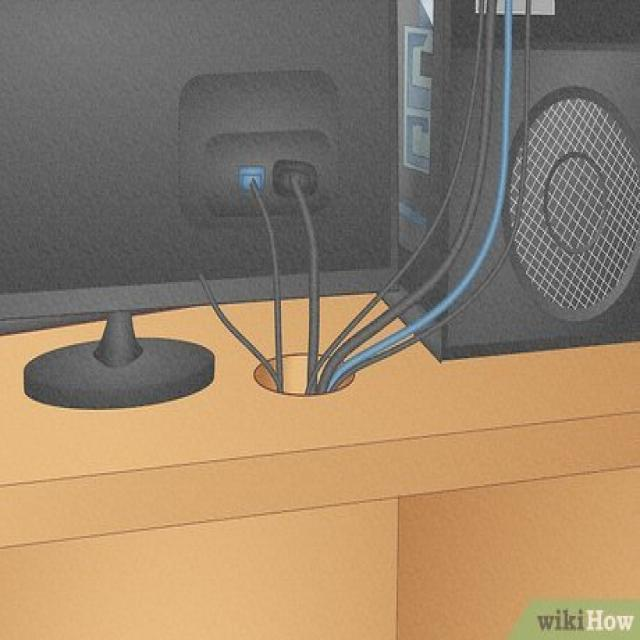electronics: (0, 0, 397, 403), (0, 2, 394, 338), (0, 2, 392, 314), (319, 0, 512, 390), (320, 0, 512, 390), (429, 0, 639, 354), (433, 0, 636, 354), (178, 69, 337, 390), (504, 85, 639, 321), (178, 69, 337, 223), (25, 312, 213, 404), (199, 223, 284, 390), (199, 130, 337, 223), (409, 0, 476, 187), (398, 0, 448, 249), (398, 0, 447, 249), (199, 269, 280, 390), (423, 184, 494, 301), (405, 166, 472, 286), (274, 160, 319, 337), (494, 48, 522, 258), (466, 85, 501, 249), (440, 2, 476, 161), (530, 0, 636, 46), (430, 168, 472, 260), (270, 197, 305, 295), (217, 95, 298, 134), (423, 242, 469, 304), (273, 210, 305, 291), (504, 54, 519, 226), (303, 227, 319, 386), (273, 158, 323, 208), (419, 176, 455, 243), (273, 160, 313, 218), (252, 352, 309, 391), (0, 314, 99, 334), (441, 0, 476, 45), (390, 239, 419, 278), (337, 303, 369, 338), (248, 176, 270, 222), (284, 352, 305, 393), (239, 163, 266, 189), (485, 124, 497, 181), (252, 364, 274, 390), (405, 262, 426, 288), (525, 4, 529, 135), (512, 0, 523, 43), (529, 0, 554, 13), (455, 143, 465, 173), (334, 375, 352, 390), (96, 391, 117, 403), (64, 391, 85, 403), (464, 145, 476, 164), (402, 174, 423, 184), (533, 0, 554, 9), (415, 124, 423, 147), (512, 0, 526, 13), (515, 17, 522, 41), (494, 85, 501, 109), (526, 22, 529, 74), (341, 377, 352, 388), (496, 0, 504, 13), (426, 256, 434, 269), (381, 278, 390, 289), (512, 0, 522, 9), (106, 365, 117, 373), (323, 187, 330, 197), (497, 0, 504, 9), (184, 186, 191, 193), (202, 137, 209, 143), (430, 198, 434, 208), (497, 9, 501, 19), (476, 0, 480, 9), (494, 241, 498, 250), (497, 0, 502, 7), (138, 393, 142, 401), (497, 52, 501, 59), (202, 104, 213, 106), (444, 314, 451, 317), (245, 193, 248, 198), (524, 147, 526, 154), (273, 249, 274, 262), (245, 158, 249, 161), (88, 400, 94, 402), (57, 367, 63, 369), (210, 174, 213, 177), (309, 120, 312, 122), (53, 364, 56, 366), (518, 210, 519, 215), (497, 54, 498, 59), (472, 22, 473, 26), (497, 29, 498, 32), (241, 183, 242, 186)
